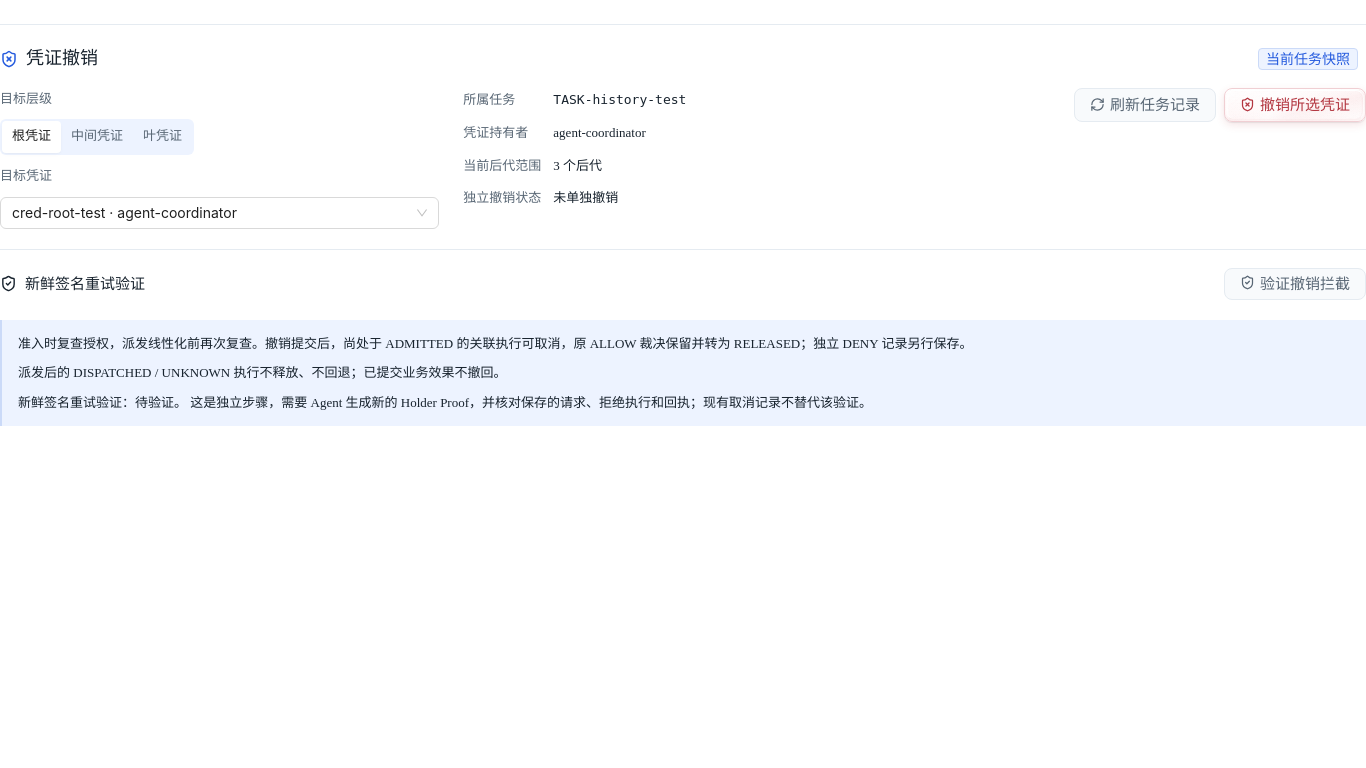
CredentialRevocationPanel › shows an authenticated rejection without substituting success or exposing raw error text
Step 1. Click the button "撤销所选凭证" → (1295, 105), box [1224,88,1365,122]
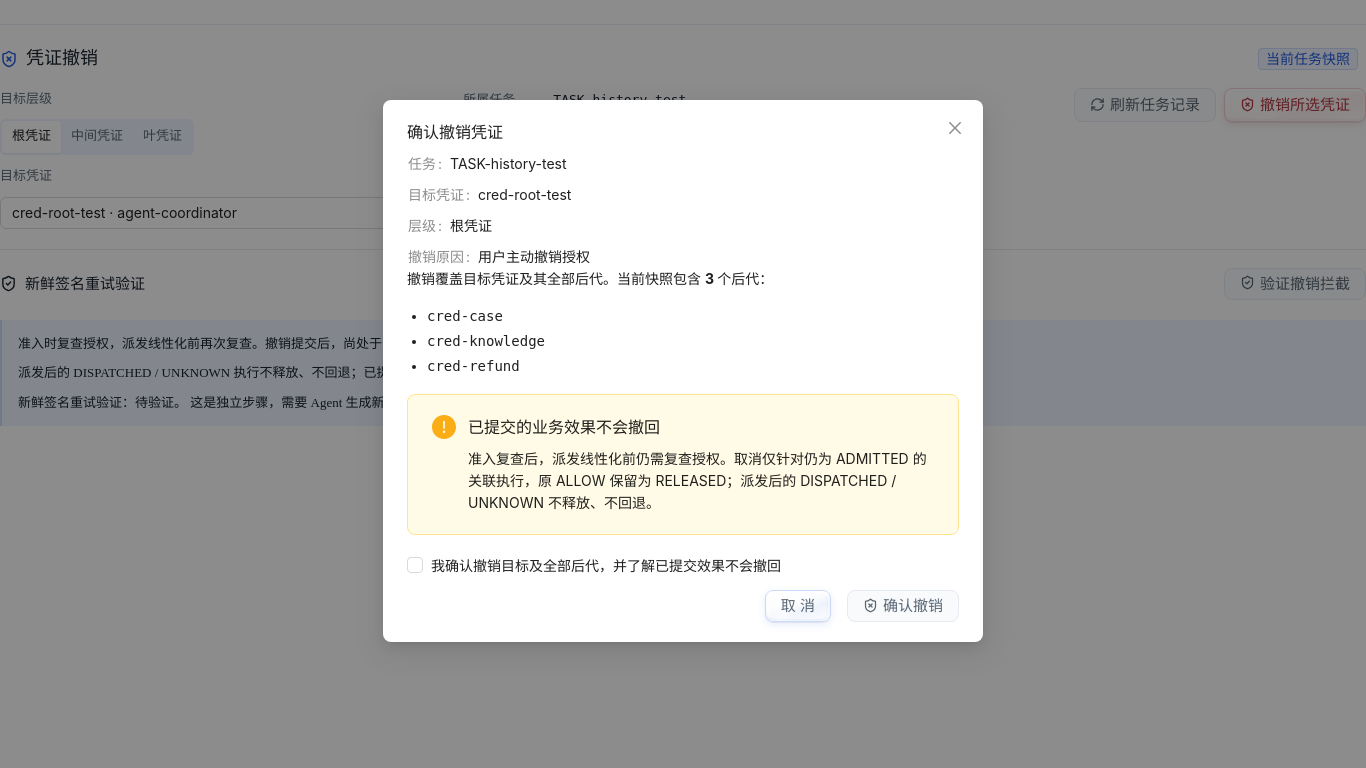
Step 2. Click the checkbox → (598, 565), box [407,553,789,578]
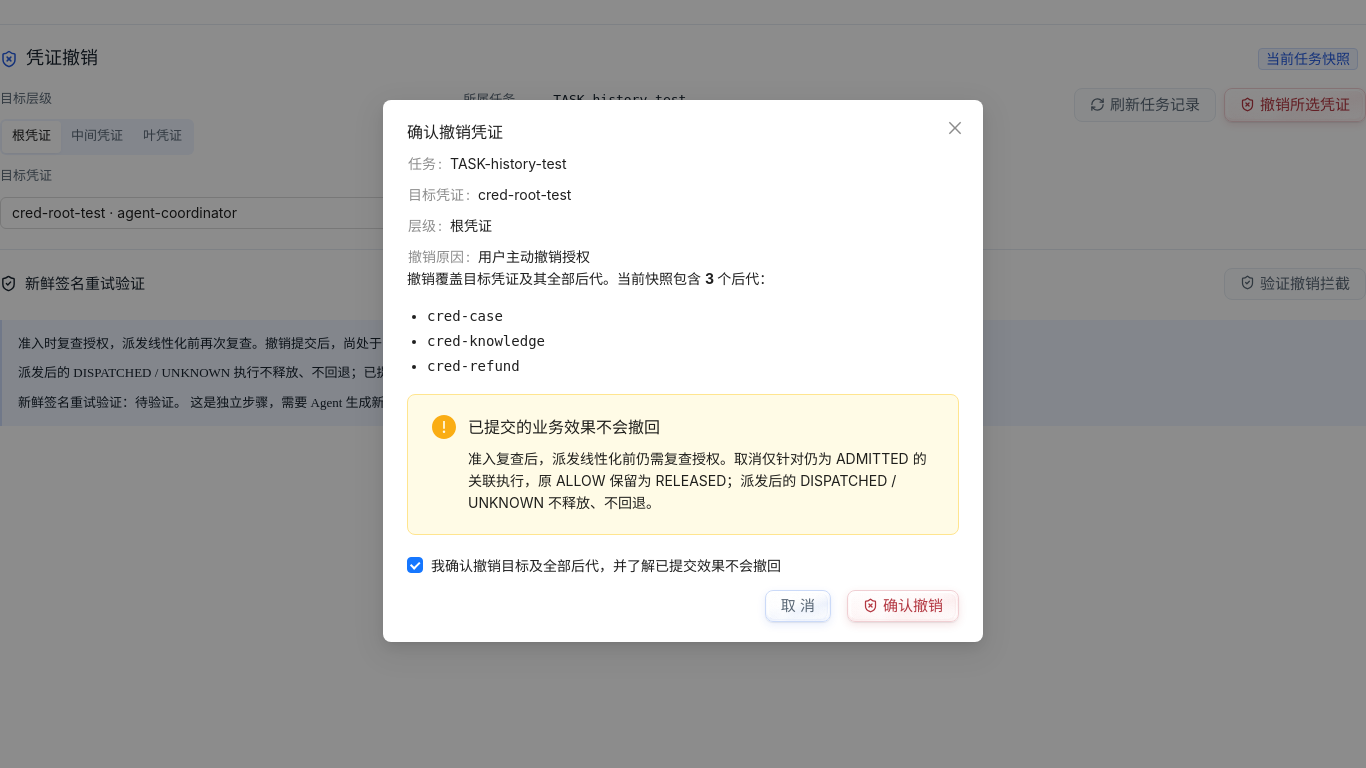
Step 3. Click the button "确认撤销" → (903, 606), box [847,590,959,622]
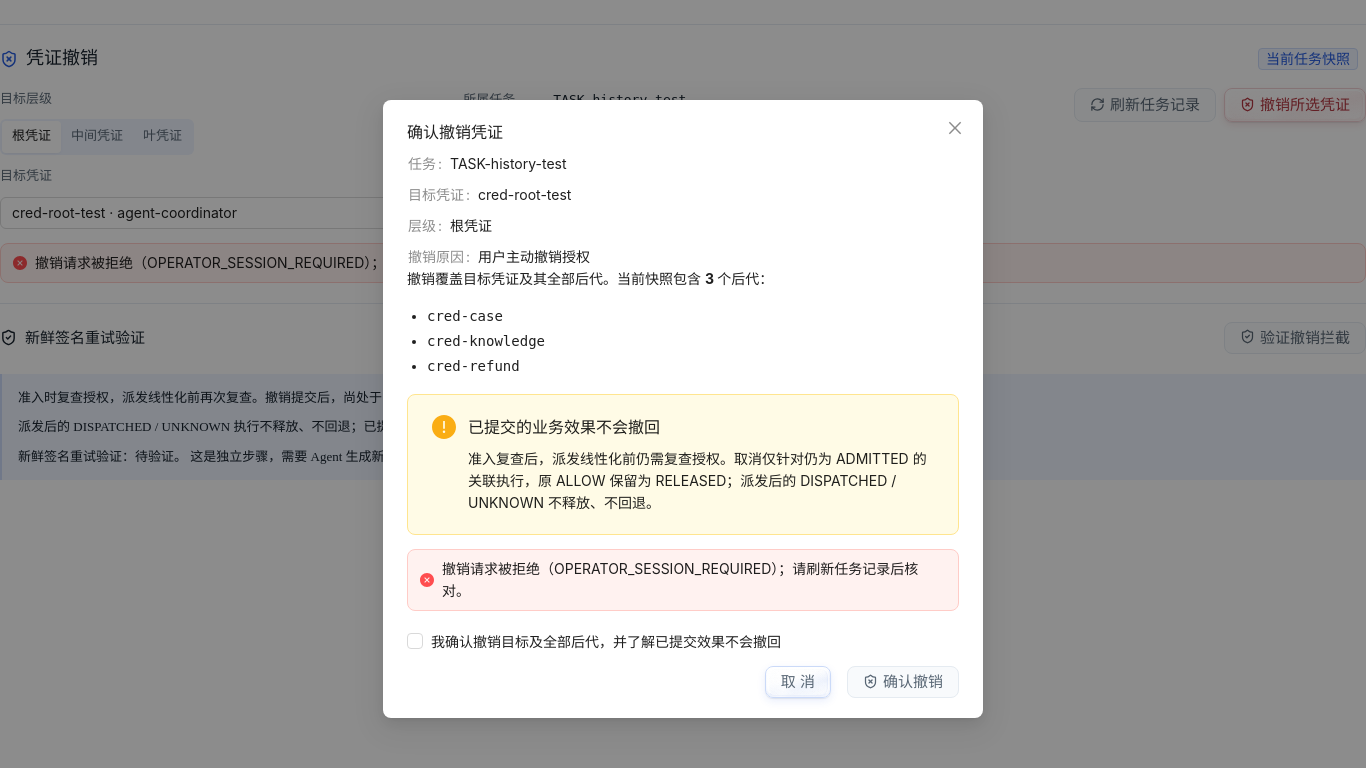
Expected: the text "新鲜签名重试验证：待验证。" is shown, [18,449,187,464]
Expected: the text "撤销请求被拒绝（OPERATOR_SESSION_REQUIRED）；请刷新任务记录后核对。" below "cred-root-test · agent-coordinator" is shown, [35,254,539,271]
